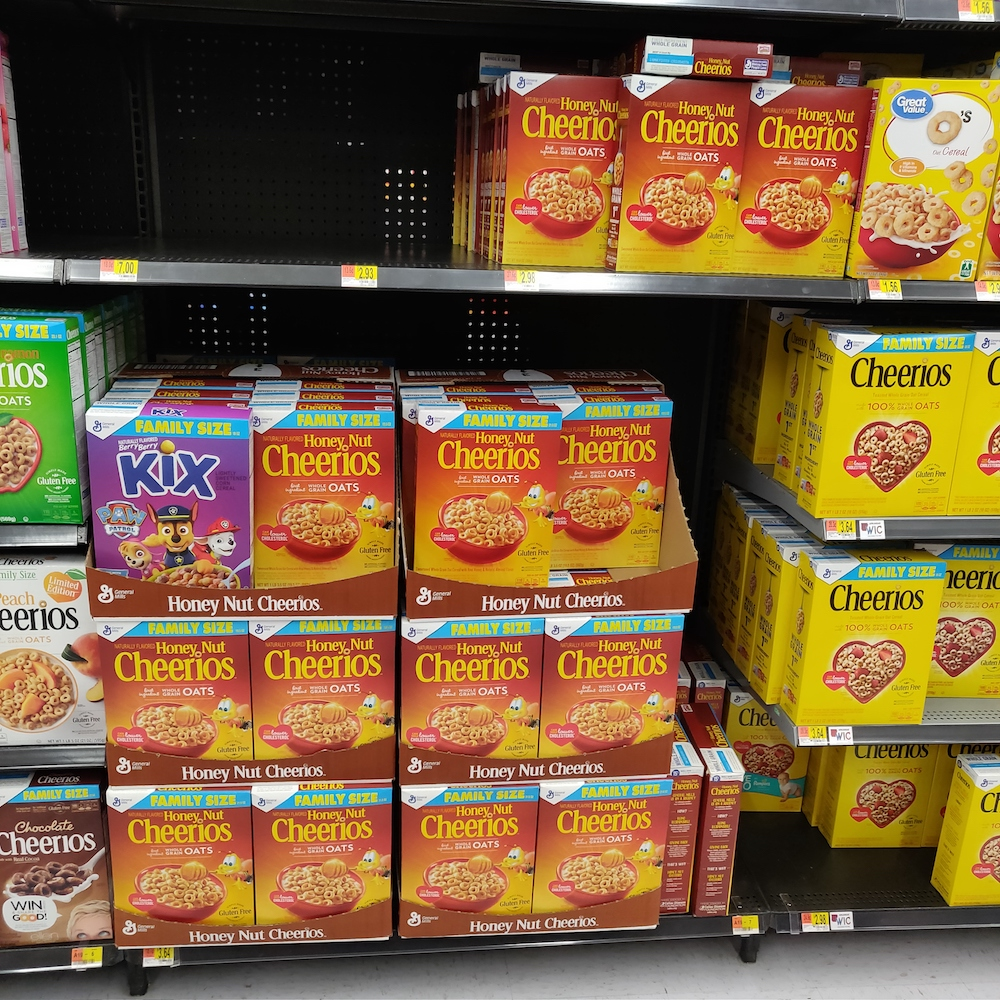Kix Berry -568919964: (73, 411, 259, 592)
